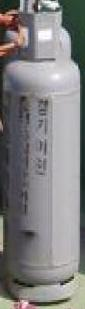cylinder: (1, 1, 85, 309)
